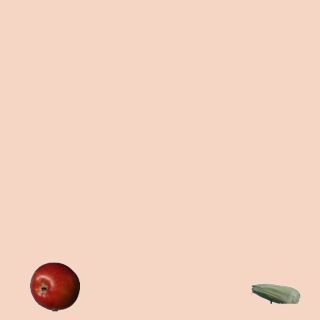Apple Braeburn: (29, 261, 79, 311)
Corn Husk: (250, 268, 300, 318)
